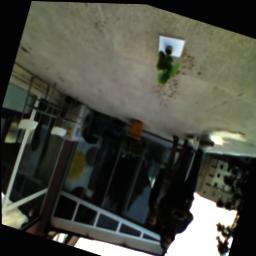herb: (151, 46, 184, 90)
